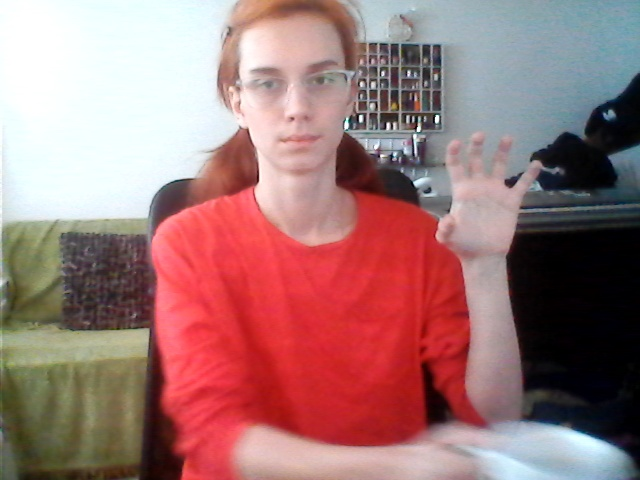budova: (435, 130, 547, 276)
